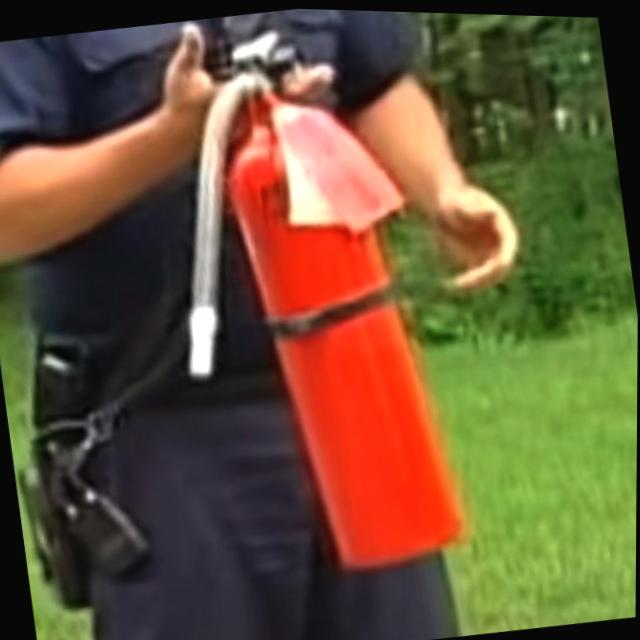FireExtinguisher: (131, 3, 476, 597)
